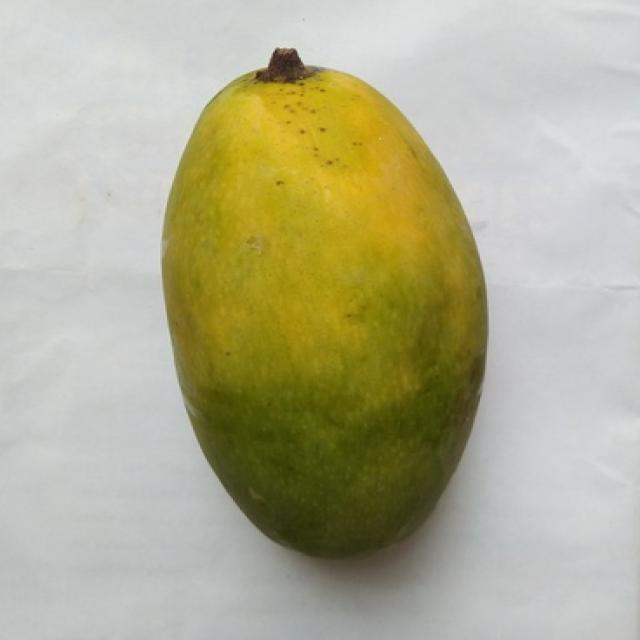Mango: (162, 50, 483, 556)
